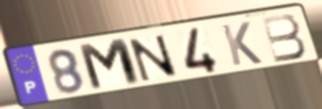4: (183, 26, 222, 75)
8: (47, 47, 86, 96)
B: (259, 12, 309, 64)
K: (219, 20, 265, 67)
M: (75, 36, 145, 94)
N: (126, 33, 182, 83)
